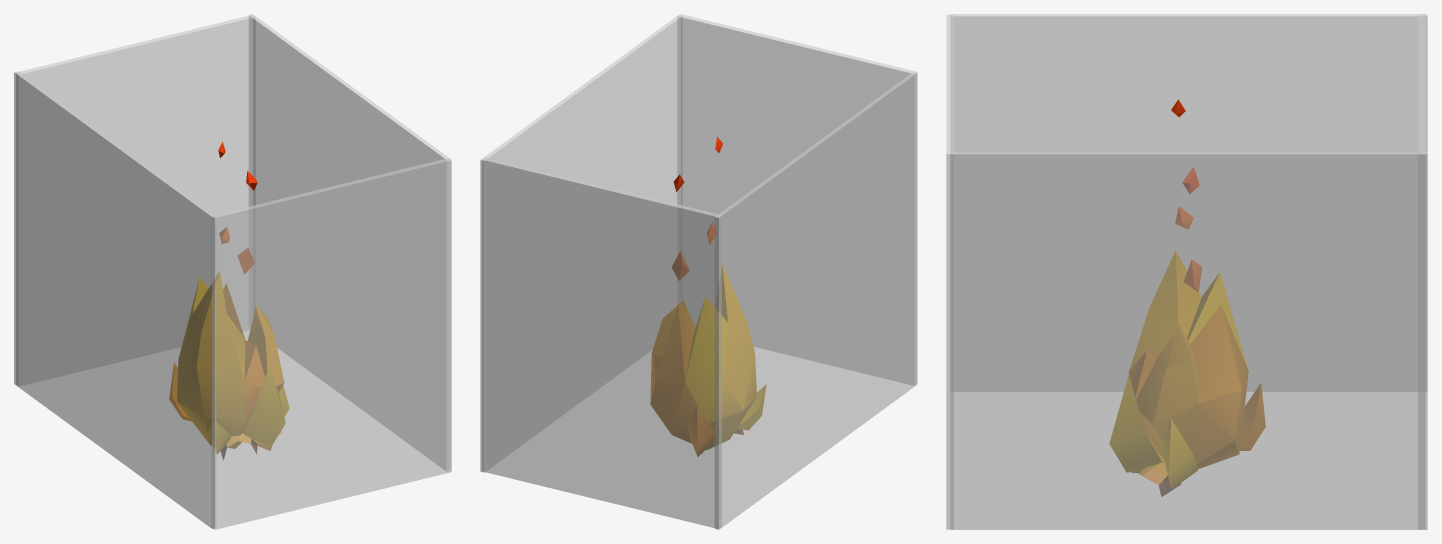
Rendered from admiral.glb.
3 renders of one model, left to right at view 1: azimuth 30°, elevation 25°; view 2: azimuth 150°, elevation 25°; view 3: azimuth 270°, elevation 25°, orthographic. The views are drawn at different scales.
Visible parts, largest first — view 1: Box 2, Box 3, Box, Box 1, Campfire; view 2: Box 3, Box 2, Box, Box 1, Campfire; view 3: Box 1, Box, Campfire, Box 2, Box 3.
Part boxes in pixels (x1,y1,x2,y2): Box 2: [212, 158, 451, 529]; Box 3: [16, 15, 255, 386]; Box: [14, 71, 215, 528]; Box 1: [248, 14, 450, 471]; Campfire: [169, 142, 289, 459]; Box 3: [482, 157, 721, 528]; Box 2: [677, 14, 917, 385]; Box: [714, 72, 916, 529]; Box 1: [480, 15, 682, 472]; Campfire: [650, 136, 766, 456]; Box 1: [950, 152, 1427, 529]; Box: [950, 14, 1427, 391]; Campfire: [1109, 99, 1265, 496]; Box 2: [946, 14, 953, 529]; Box 3: [1418, 14, 1425, 529].
Bounding box in the file's own units: 0.1944 × 0.2533 × 0.2819.
Materials: 2 (1 with a texture image).
